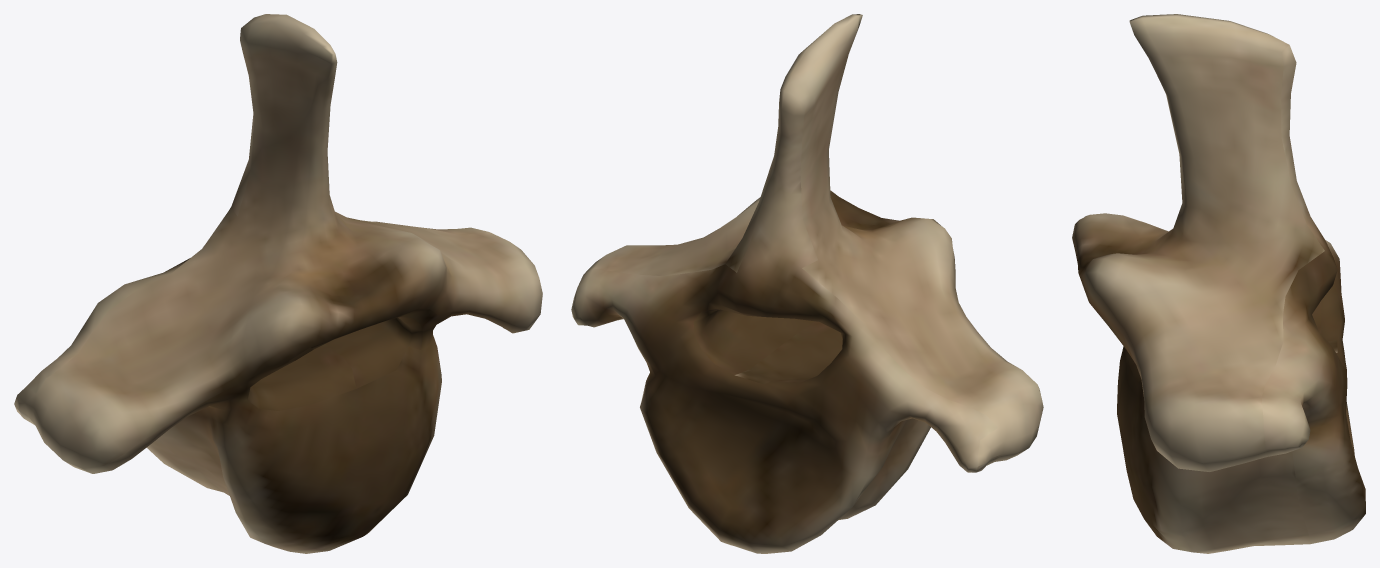
File: Thoracic_Vertebrae15.glb
3 views of the same model, side by side, from view 1: azimuth 30°, elevation 25°; view 2: azimuth 150°, elevation 25°; view 3: azimuth 270°, elevation 25° (orthographic). The views are drawn at different scales.
Parts seen in each view (by area): view 1: Horse_low:SelSet_54Merged_L_Frt_Sesamoid_Bones_1; view 2: Horse_low:SelSet_54Merged_L_Frt_Sesamoid_Bones_1; view 3: Horse_low:SelSet_54Merged_L_Frt_Sesamoid_Bones_1.
Part boxes in pixels (x1=…): Horse_low:SelSet_54Merged_L_Frt_Sesamoid_Bones_1: x1=14, y1=14, x2=542, y2=553; Horse_low:SelSet_54Merged_L_Frt_Sesamoid_Bones_1: x1=571, y1=14, x2=1043, y2=553; Horse_low:SelSet_54Merged_L_Frt_Sesamoid_Bones_1: x1=1072, y1=14, x2=1365, y2=553.
Bounding box in the file's own units: 0.1192 × 0.1277 × 0.0648.
Materials: 1 (1 with a texture image).
